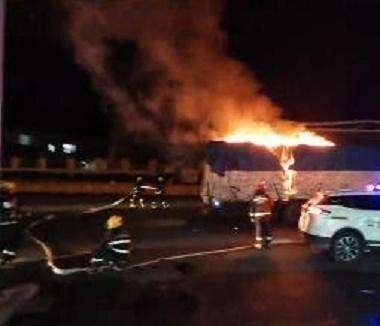fire: (213, 111, 335, 173)
